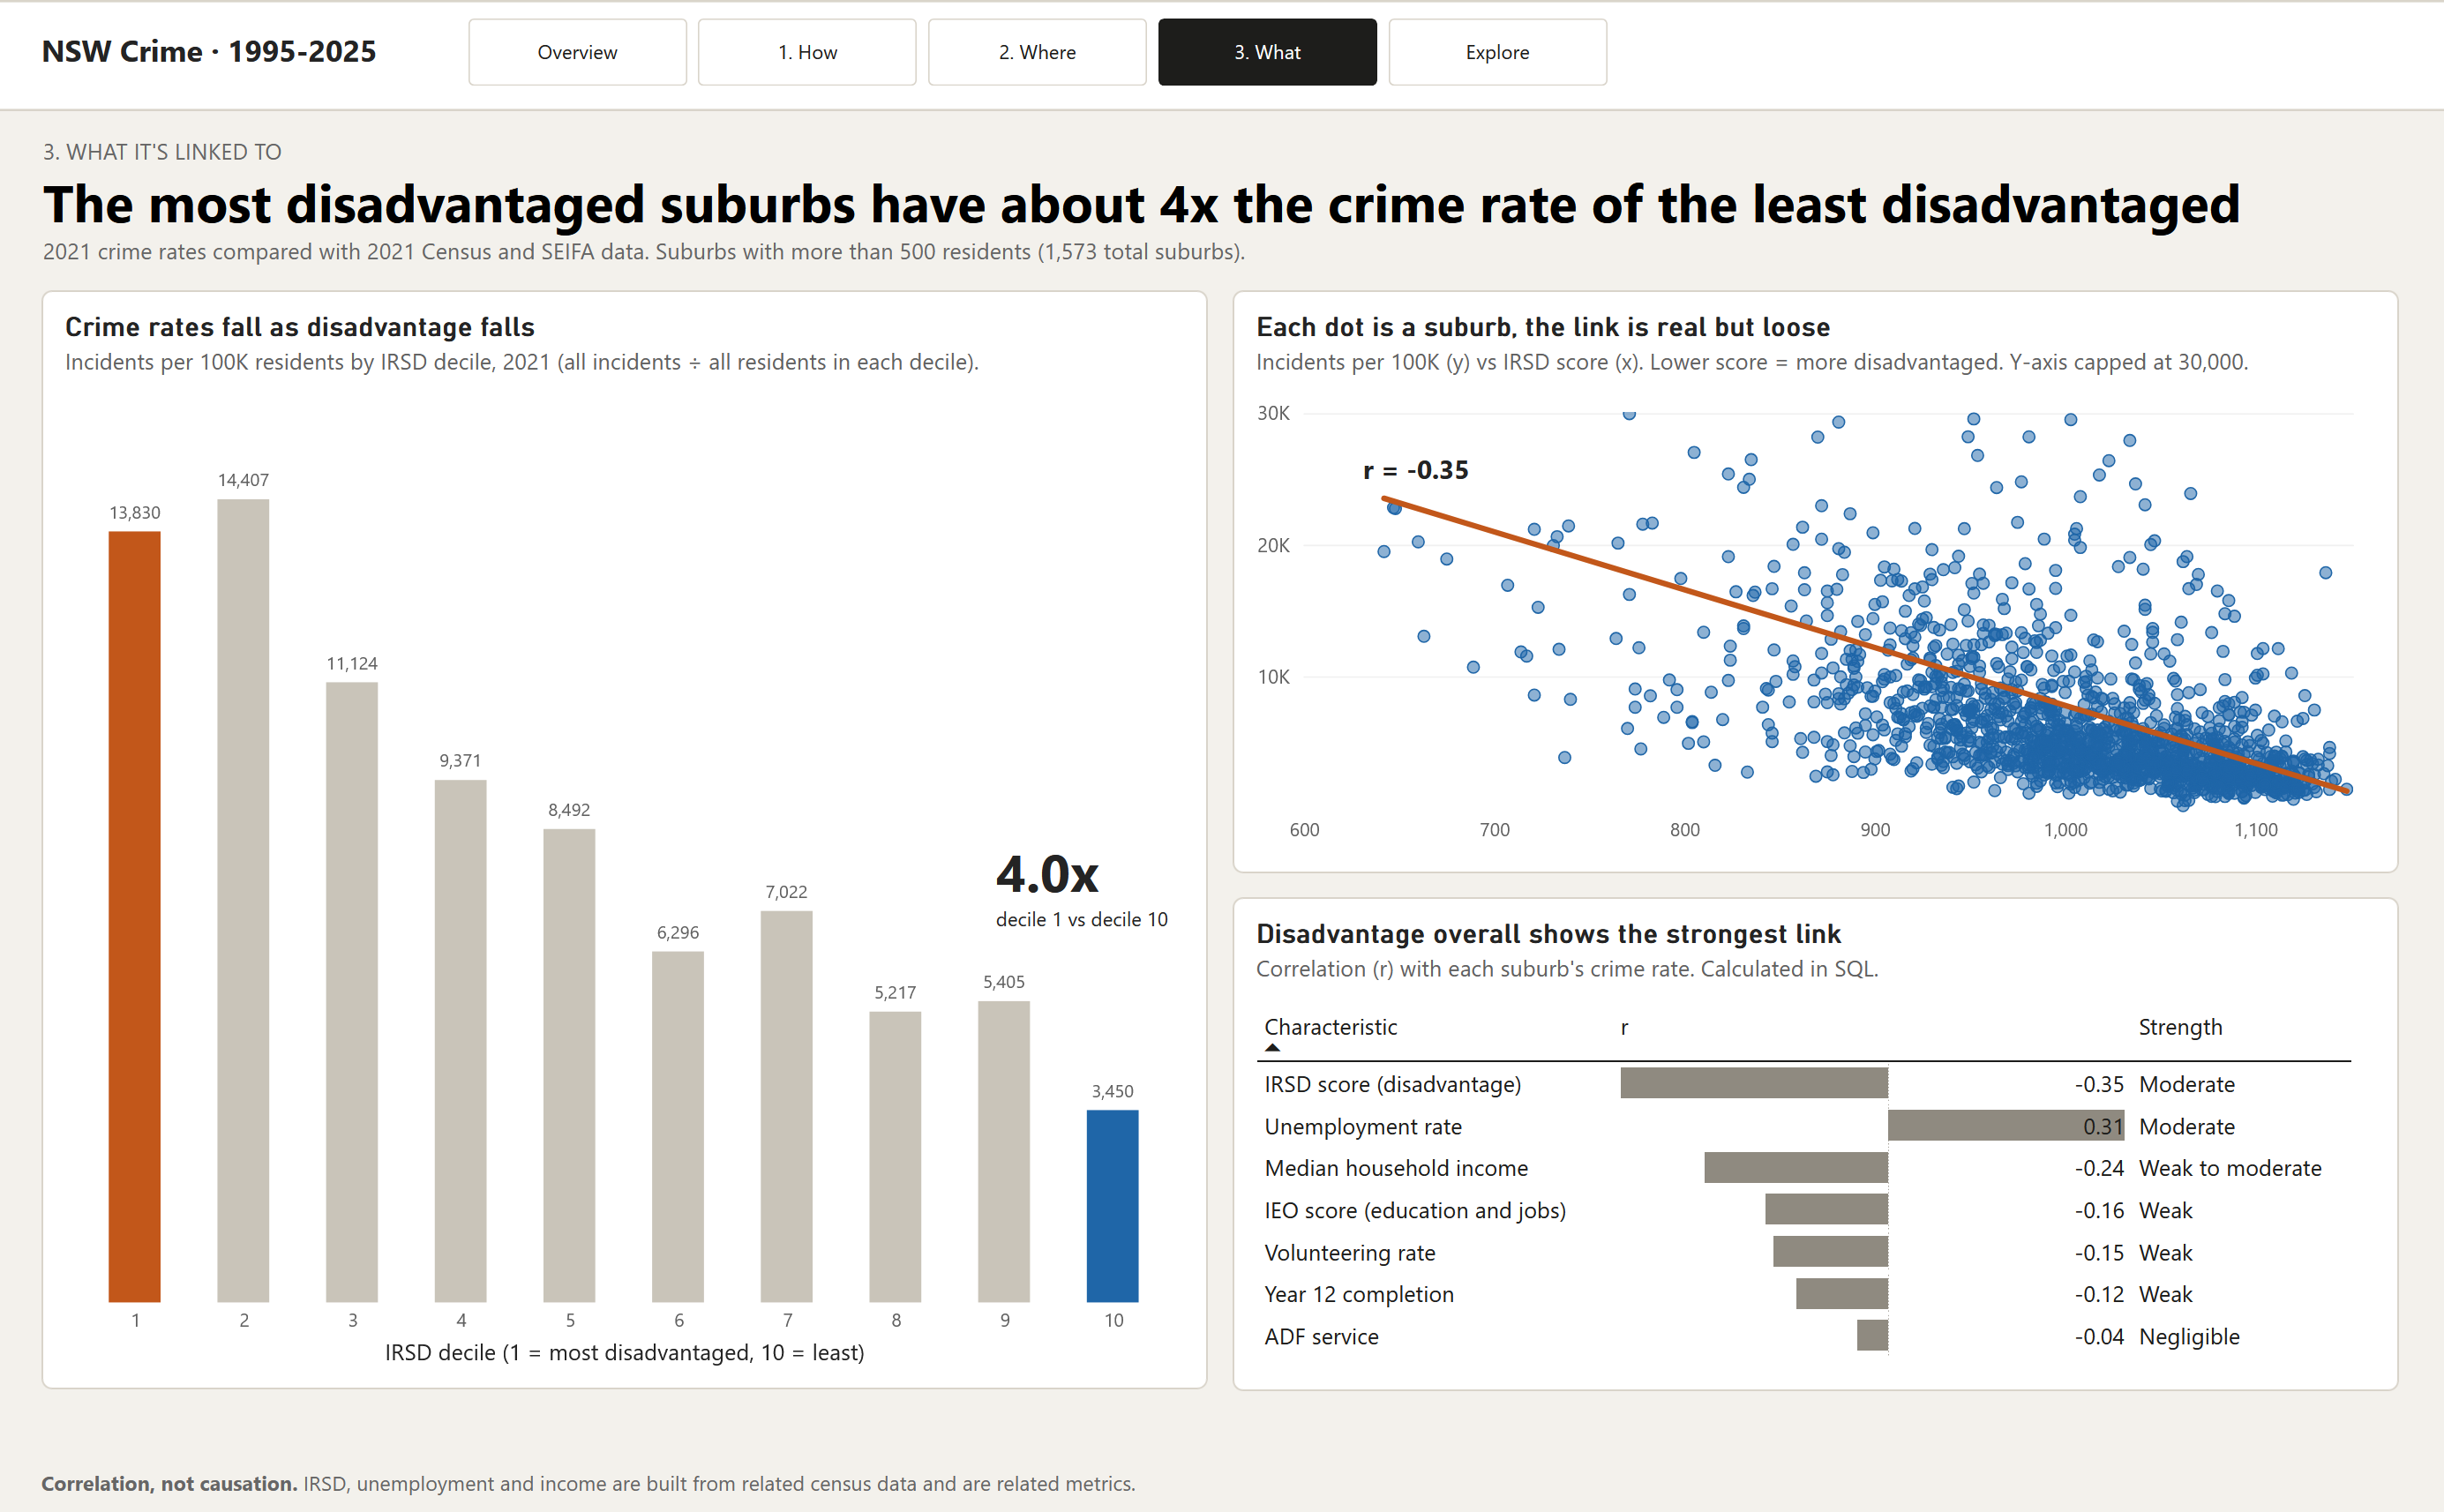

This screenshot's page, from the dashboard's own definition file:
{"tool":"powerbi","page":{"name":"Socioeconomic Analysis","canvas":[1920,1080],"ordinal":2},"visuals":[{"type":"clusteredColumnChart","box":[784.9,470,280,280],"z":0},{"type":"scatterChart","fields":{"X":["census.Unemployment Rate"],"Category":["census.sal_name"],"Y":["suburb_incidents.Incidents Per 100k 2021"]},"box":[77.4,89.1,988.4,531.1],"z":1000},{"type":"slicer","title":"Socioeconomic","fields":{"Values":["Parameter.Parameter"]},"box":[78.5,635.7,986.4,102.5],"z":2000},{"type":"textbox","box":[77.4,0,1729.2,80.8],"z":3000},{"type":"clusteredColumnChart","title":"Unemployment Quartile","fields":{"Category":["census.Unemployment Quartile"],"Y":["census.Avg Incidents Per 100k (Quartile)"]},"box":[1077.7,92.8,728,531],"z":4000},{"type":"tableEx","fields":{"Values":["census.sal_name","suburb_incidents.Incidents Per 100k 2021","census.total_population","census.Unemployment Rate","census.Median Income"]},"box":[1077.7,636,728.8,443.5],"z":6000}]}

Visuals, with their boxes on the page's 1920x1080 design canvas (x1, y1, x2, y2). These are canvas units, not pixel positions in the 2444x1512 screenshot, which may show the page scaled, cropped or inside an application window:
clusteredColumnChart: select_region(785, 470, 1065, 750)
scatterChart - census.Unemployment Rate x census.sal_name: select_region(77, 89, 1066, 620)
"Socioeconomic" slicer: select_region(78, 636, 1065, 738)
textbox: select_region(77, 0, 1807, 81)
"Unemployment Quartile" clusteredColumnChart: select_region(1078, 93, 1806, 624)
tableEx - census.sal_name x suburb_incidents.Incidents Per 100k 2021: select_region(1078, 636, 1806, 1080)
